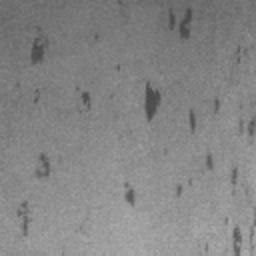Red iron sheet: (124, 45, 256, 206), (16, 37, 45, 104), (204, 217, 242, 256), (169, 8, 192, 39), (17, 201, 31, 236), (36, 153, 50, 177), (81, 92, 91, 109)
